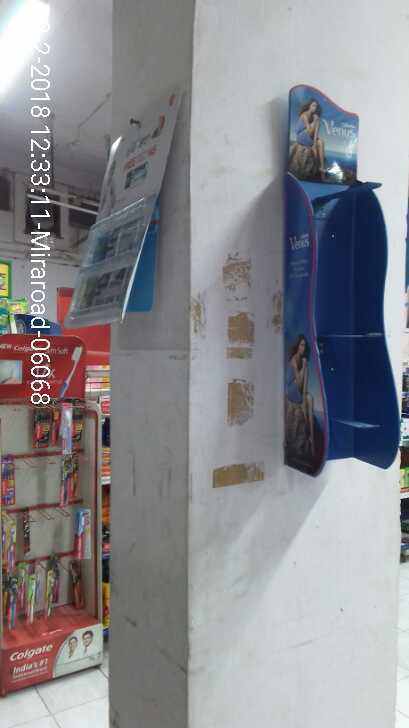reject: (126, 214, 284, 476)
